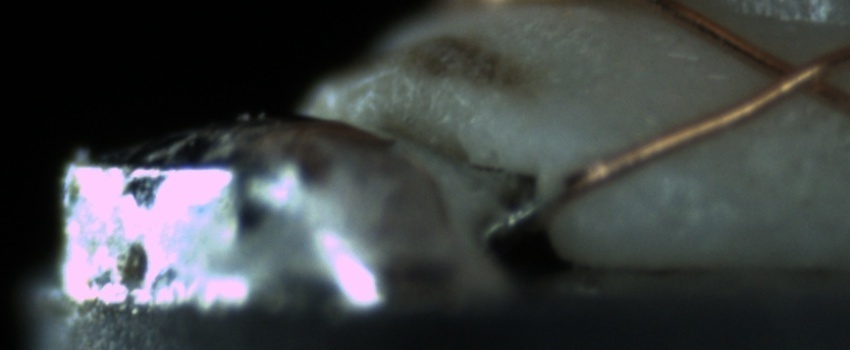CL: (746, 42, 842, 108)
TS: (478, 186, 560, 238)
TTCW: (482, 162, 598, 239)
